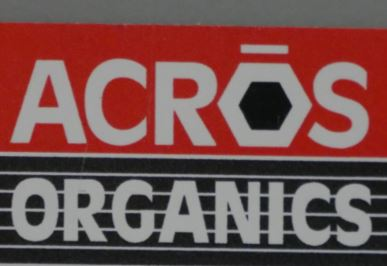AcrosOrganics: (7, 41, 376, 251)
